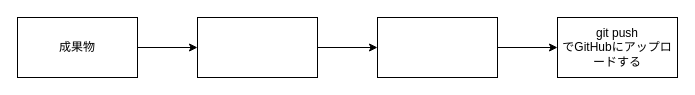
Image size: 695x95. Some labels were removed from this diagram. Here are the shapes that lost their labels. From the top down, the box of each, then its label:
(196, 16, 318, 78): git add . でアップロードするファイルを選択
(376, 16, 498, 78): git commit で選択したファイルを登録
